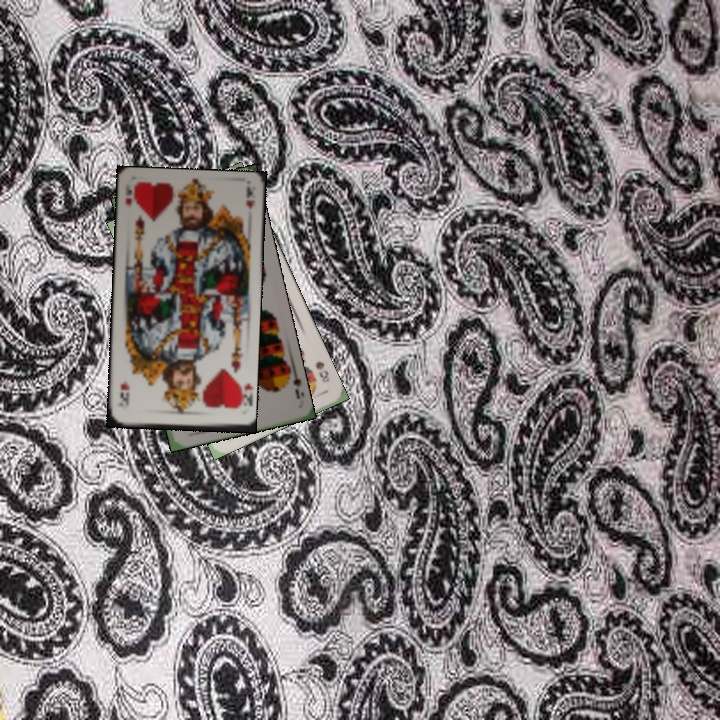HK: (232, 375, 252, 411), (121, 182, 135, 210)
S8: (311, 357, 332, 385)
S9: (280, 364, 303, 402)
